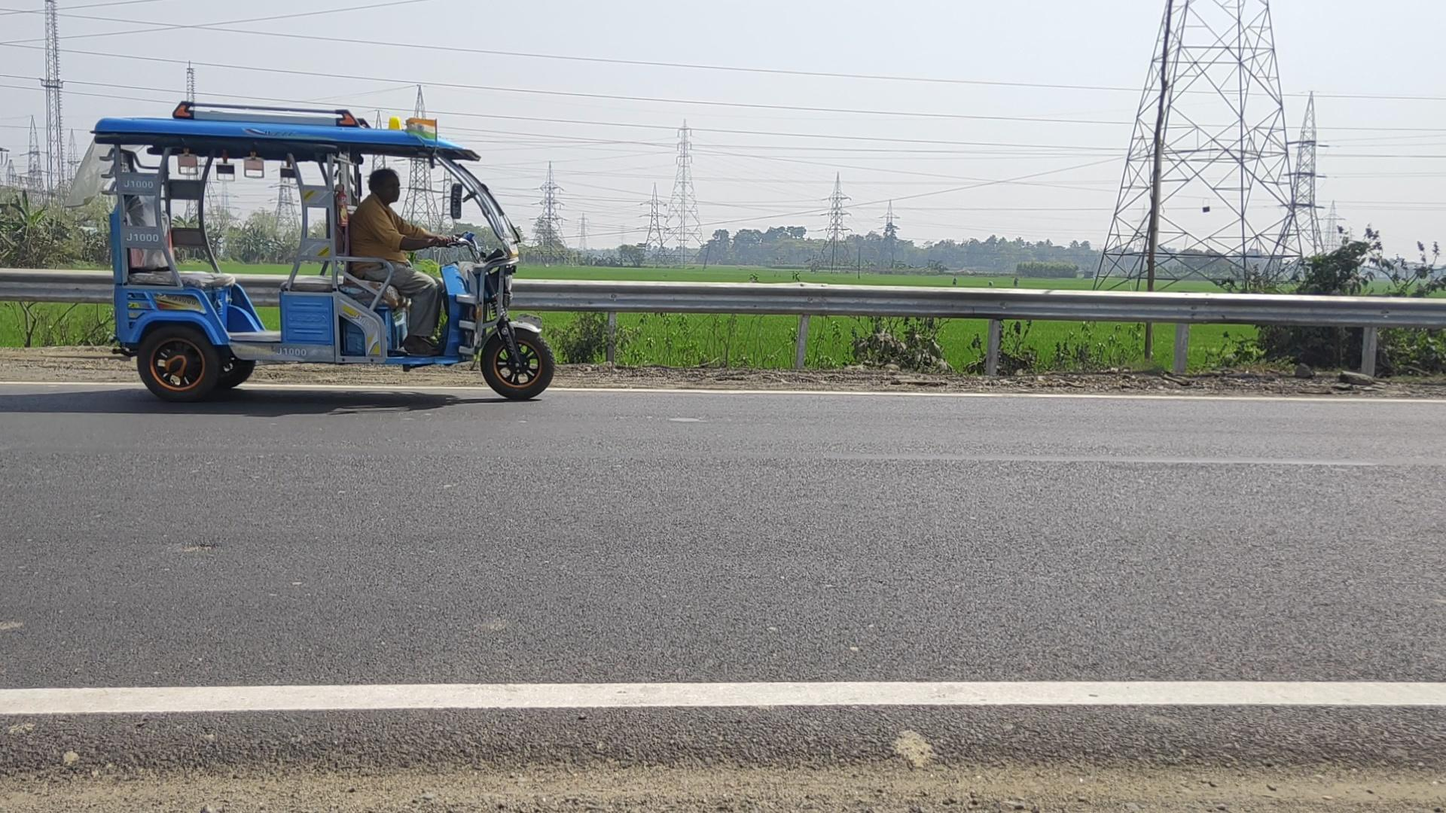Auto: (91, 100, 553, 405)
